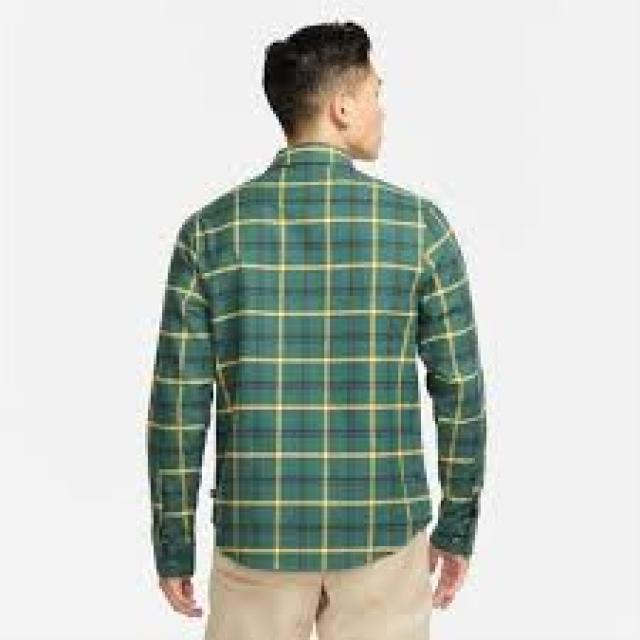plaid: (153, 135, 490, 565)
